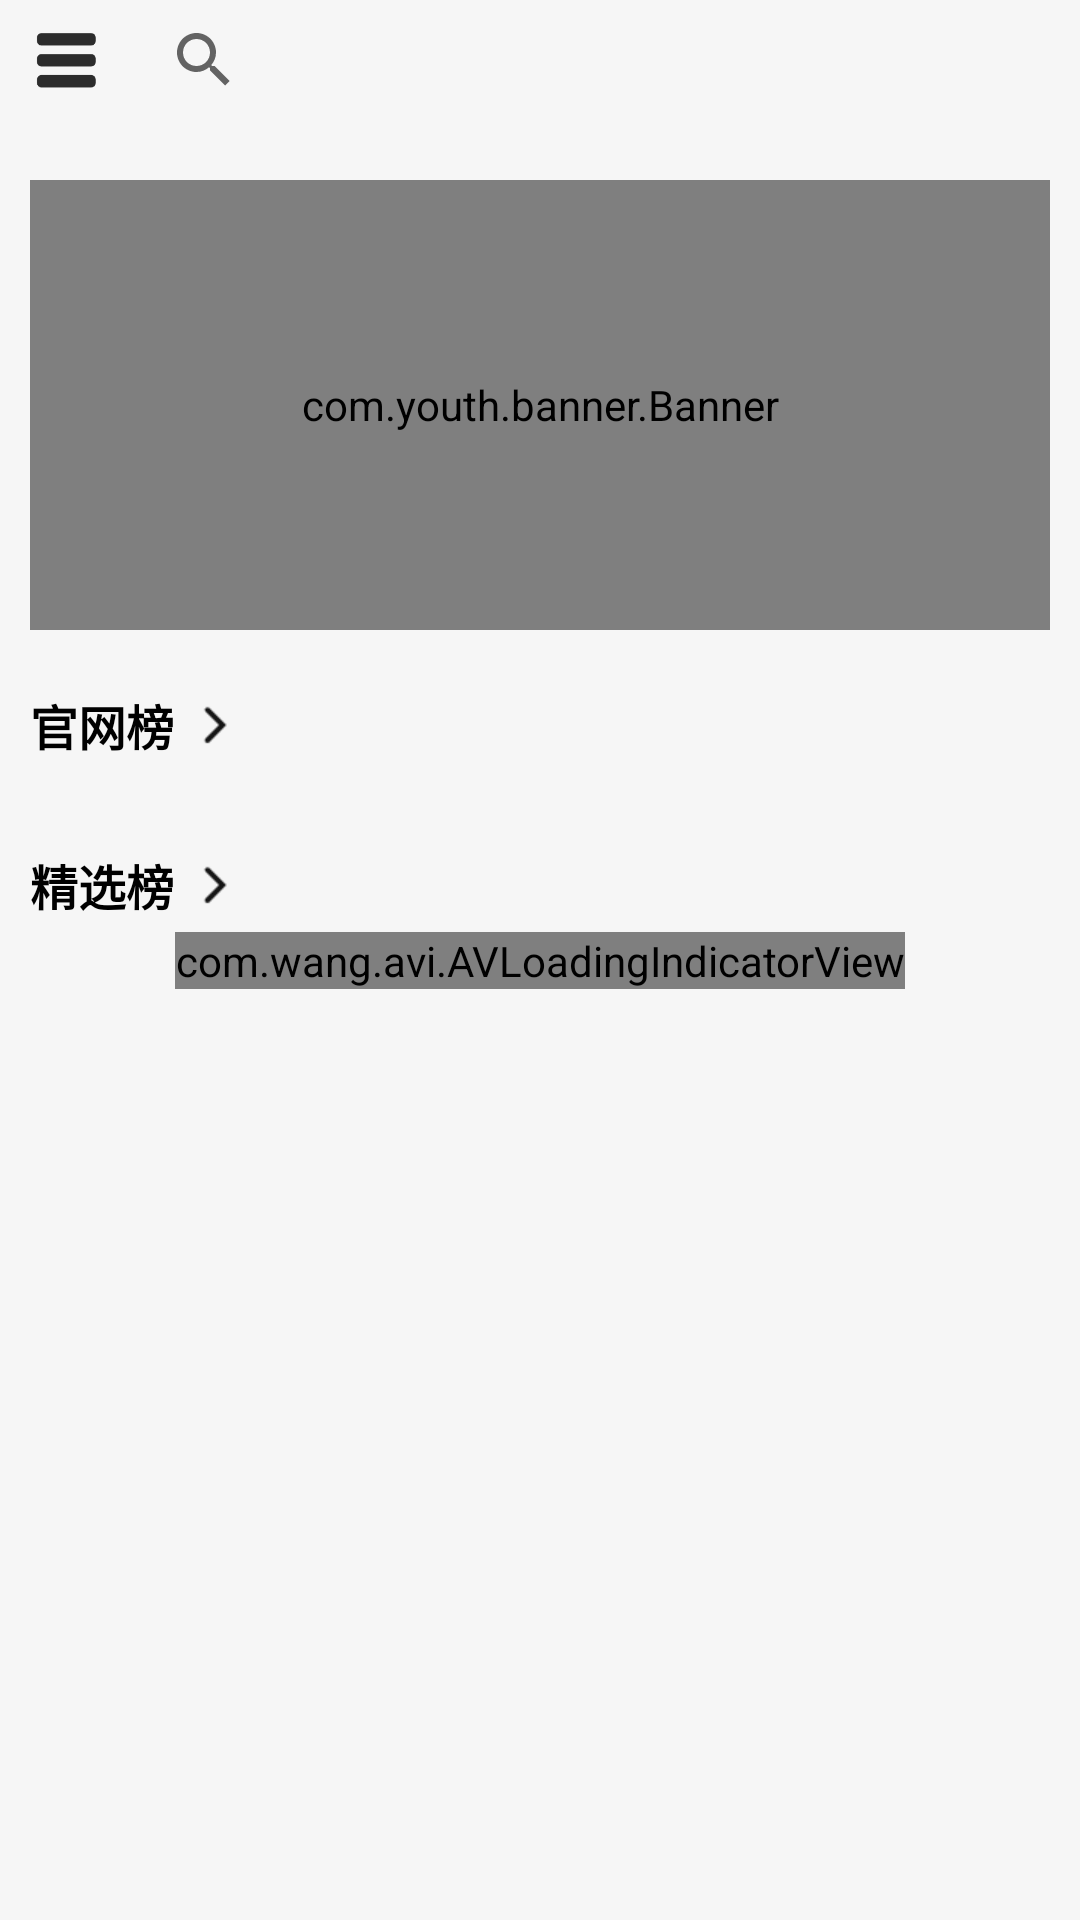

Point at icon controls on the screen. Image size 1080 x 1920, points as (x=x, y=y).
list: (x=66, y=60)
